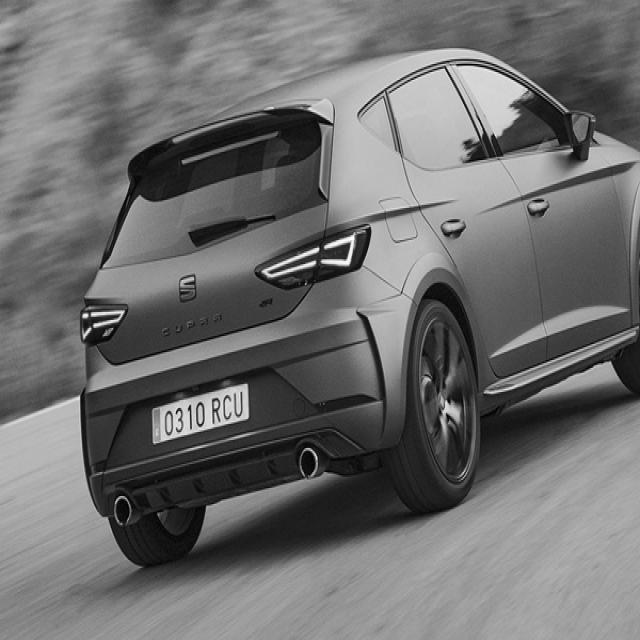License-Plate: (150, 380, 250, 447)
